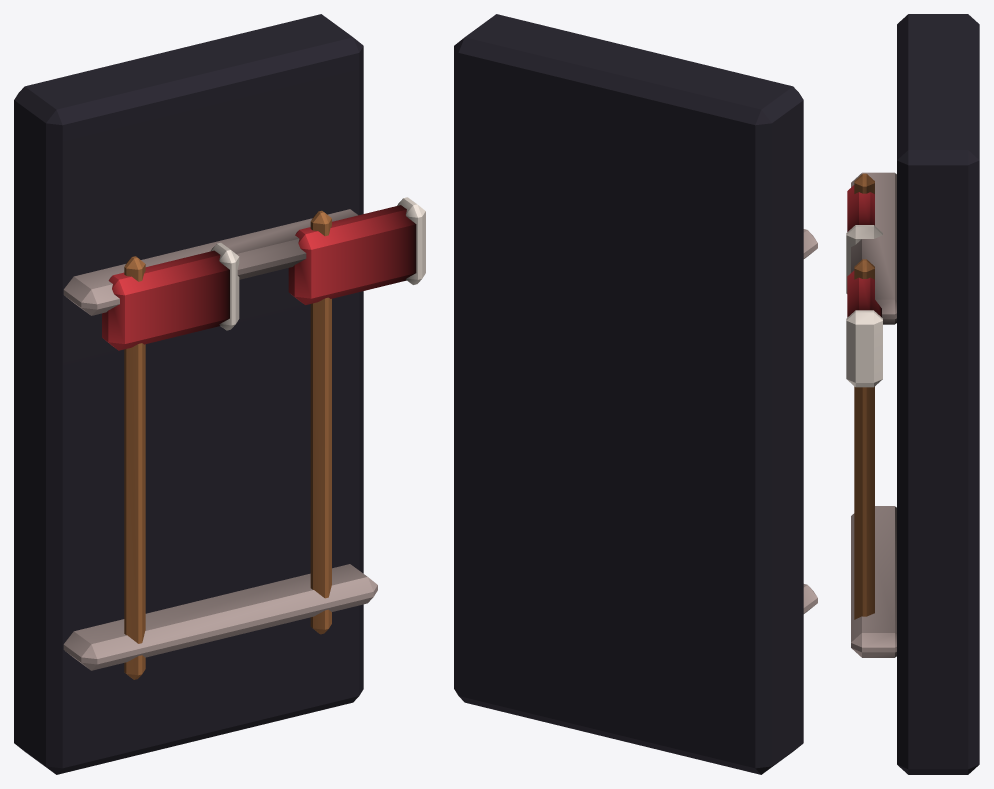
Rendered from prop.axe-rack.glb.
The picture shows the model from 3 angles, left to right: view 1: azimuth 30°, elevation 25°; view 2: azimuth 150°, elevation 25°; view 3: azimuth 270°, elevation 25°; orthographic projection. The views are drawn at different scales.
Parts seen in each view (by area): view 1: body; view 2: body; view 3: body.
Boxes of the visible parts, x1,y1,x2,y2 form: body: (14,14,425,774); body: (454,14,817,774); body: (846,14,979,774).
Bounding box in the file's own units: 0.83 × 1.5 × 0.29.
